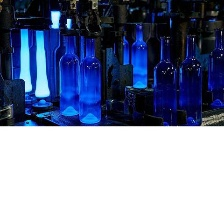bottle: (176, 31, 203, 132), (78, 33, 106, 124), (55, 32, 82, 121), (152, 32, 177, 127), (207, 25, 224, 111), (130, 22, 150, 92), (111, 29, 130, 67)
